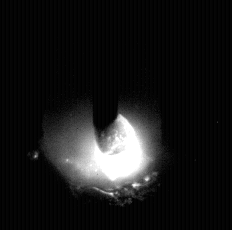arame: (92, 0, 120, 152)
poca: (43, 0, 162, 230)
